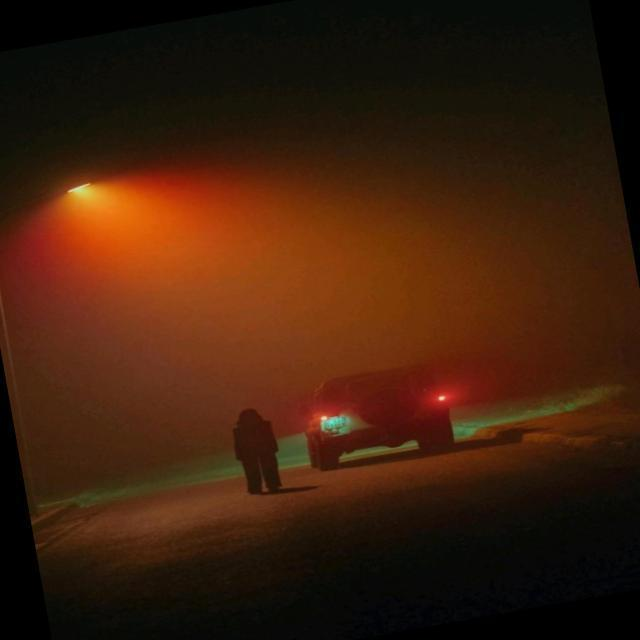on: (60, 136, 148, 260)
